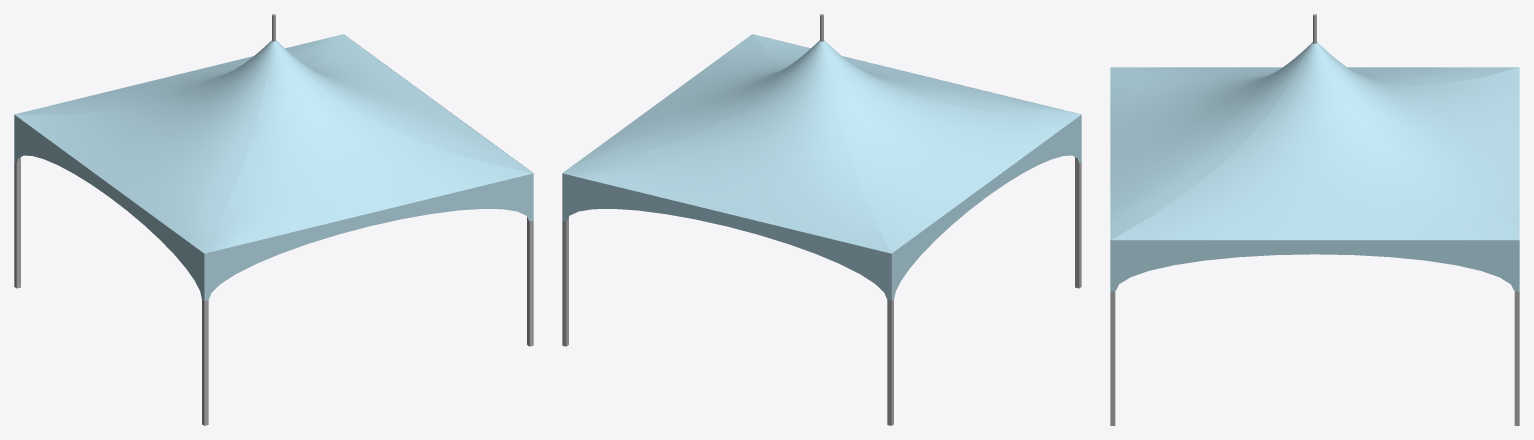
The model's file is tent.glb.
3 renders of one model, left to right at view 1: azimuth 30°, elevation 25°; view 2: azimuth 150°, elevation 25°; view 3: azimuth 270°, elevation 25°, orthographic. The views are drawn at different scales.
Visible parts, largest first — view 1: SketchUp, Group_3, Group_2, Group_5; view 2: SketchUp, Group_4, Group_2, Group_5; view 3: SketchUp, Group_1, Group_5.
Boxes of the visible parts, left/top/right/bottom form: SketchUp: left=14, top=34, right=533, bottom=253; Group_3: left=204, top=173, right=533, bottom=300; Group_2: left=14, top=115, right=204, bottom=300; Group_5: left=14, top=14, right=533, bottom=425; SketchUp: left=562, top=34, right=1081, bottom=253; Group_4: left=562, top=173, right=891, bottom=300; Group_2: left=891, top=115, right=1081, bottom=300; Group_5: left=562, top=14, right=1081, bottom=425; SketchUp: left=1110, top=42, right=1519, bottom=240; Group_1: left=1110, top=240, right=1519, bottom=291; Group_5: left=1110, top=14, right=1519, bottom=425.
Size of the model in its own units: 6.1 by 5.33 by 6.1.
